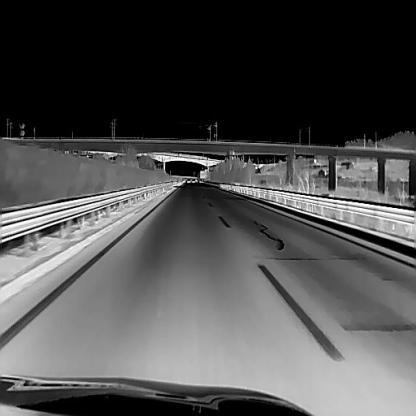car: (186, 177, 191, 182)
